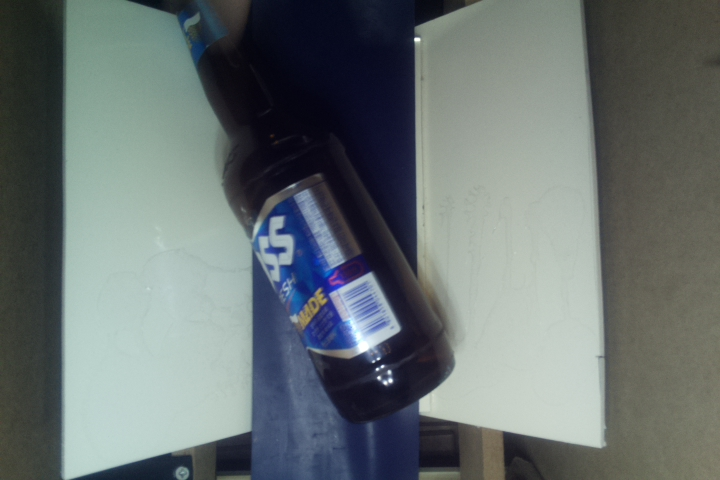makju: (174, 1, 458, 424)
